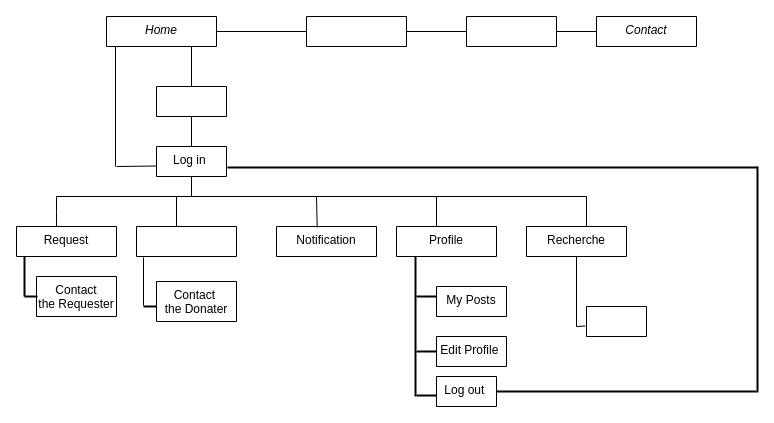
The diagram is 774 pixels wide and 423 high, and some of its shapes have lost their labels. Each missing label, with the centre of its shape:
"Donate" goes at point (186, 241).
"Join us" goes at point (191, 101).
"Search" goes at point (616, 321).
"Services" goes at point (356, 31).
"Team" goes at point (511, 31).
